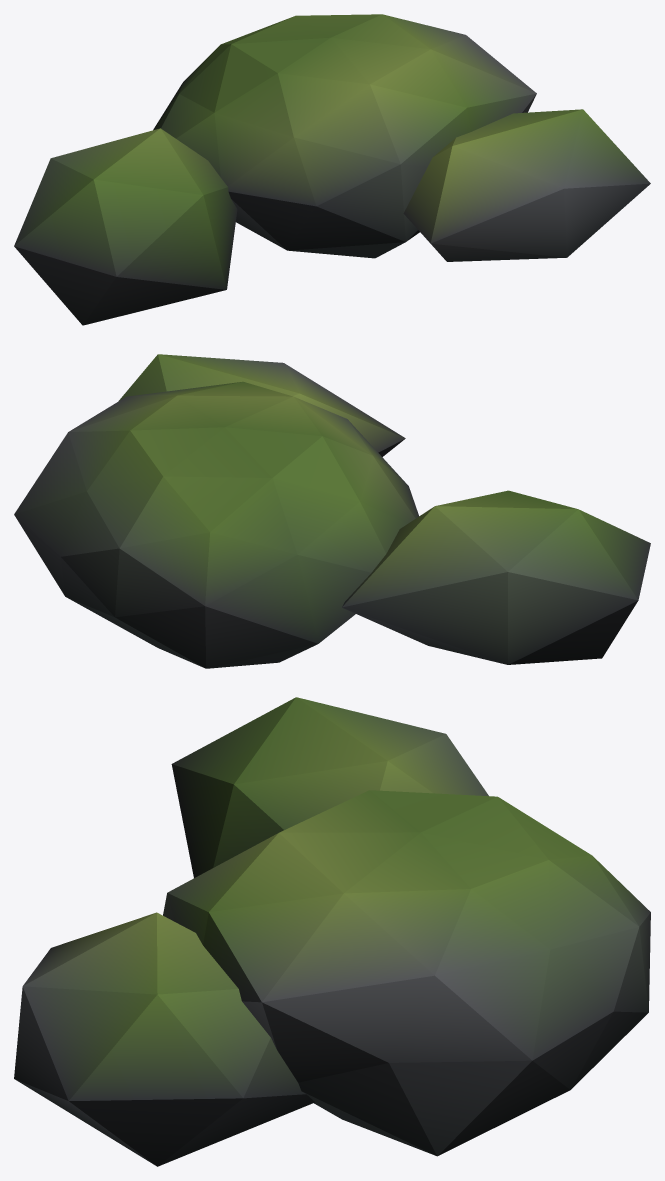
File: cover-pebble.glb
The picture shows the model from 3 angles, top to bottom: view 1: azimuth 30°, elevation 25°; view 2: azimuth 150°, elevation 25°; view 3: azimuth 270°, elevation 25°; orthographic projection. The views are drawn at different scales.
Visible parts, largest first — view 1: cover-pebble; view 2: cover-pebble; view 3: cover-pebble.
Boxes of the visible parts, x1,y1,x2,y2 form: cover-pebble: [14, 14, 650, 325]; cover-pebble: [14, 354, 650, 668]; cover-pebble: [14, 697, 650, 1166].
Bounding box in the file's own units: 0.6395 × 0.2006 × 0.4693.
